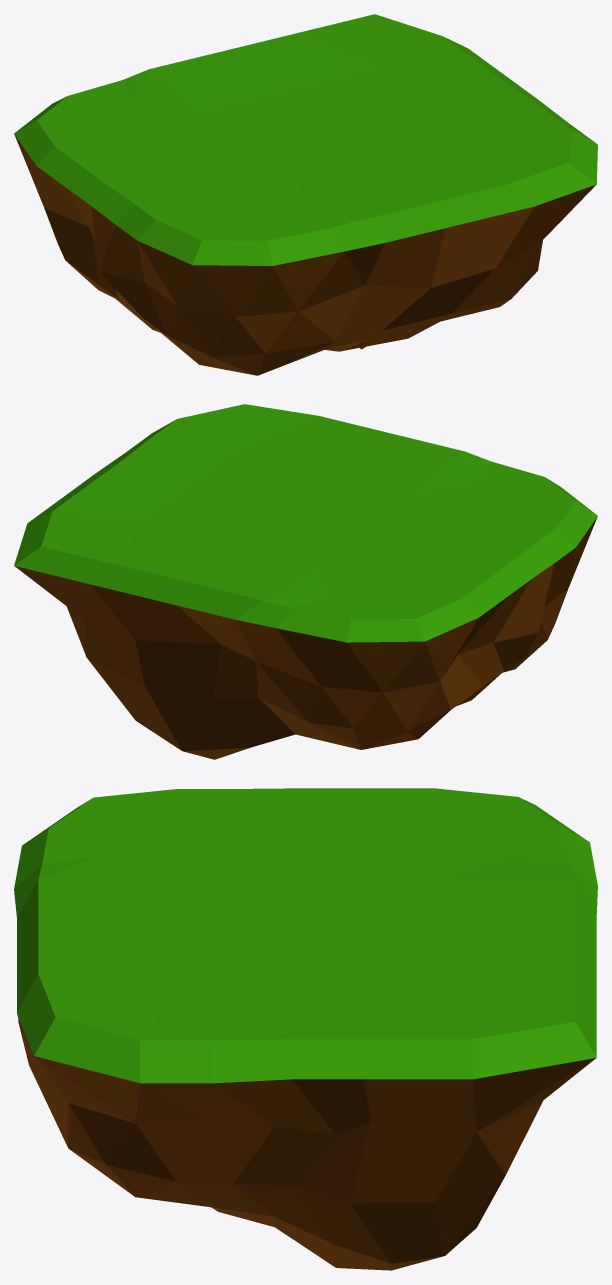
File: Island_03.fbx
3 views of the same model, one above another, from view 1: azimuth 30°, elevation 25°; view 2: azimuth 150°, elevation 25°; view 3: azimuth 270°, elevation 25° (orthographic). The views are drawn at different scales.
Visible parts, largest first — view 1: Island_03; view 2: Island_03; view 3: Island_03.
Boxes of the visible parts, x1,y1,x2,y2 form: Island_03: (14,14,597,375); Island_03: (14,404,597,759); Island_03: (14,788,597,1270).
Size of the model in its own units: 499 by 260 by 436.
